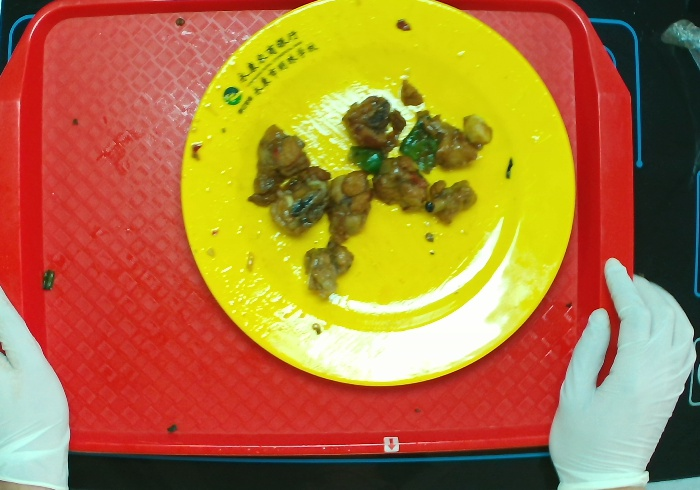YKMZ-Huang_Se_Mian_Pan: (161, 1, 585, 412)
